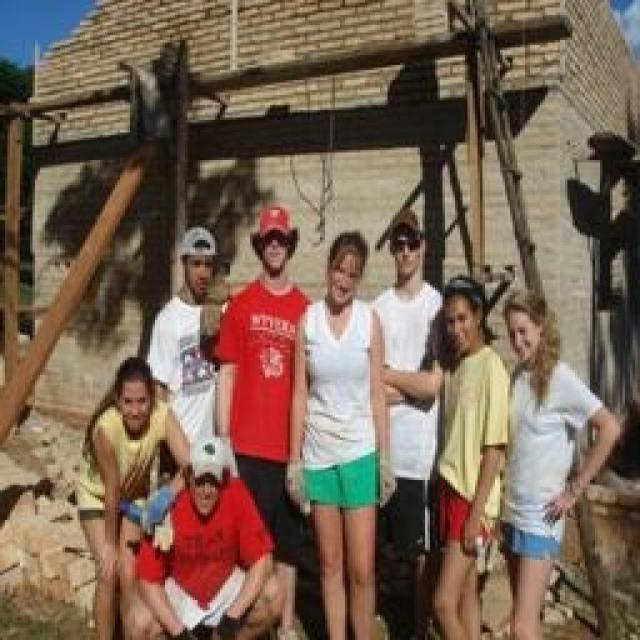Helmet: (502, 345, 594, 557), (295, 290, 381, 510), (158, 473, 268, 627), (226, 268, 304, 476), (368, 279, 442, 498), (154, 299, 234, 465), (436, 342, 505, 532), (89, 406, 171, 534), (497, 283, 562, 390), (175, 433, 243, 528), (170, 212, 231, 314), (430, 264, 489, 366), (376, 201, 440, 295), (242, 193, 308, 283), (316, 218, 376, 317), (99, 344, 157, 440)
